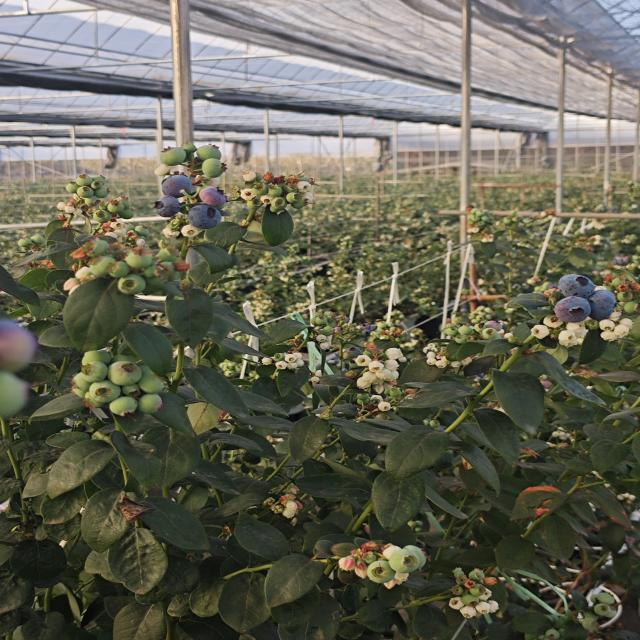ripe: (544, 294, 601, 328), (549, 270, 600, 299), (186, 199, 226, 232), (584, 288, 624, 318), (144, 197, 185, 219), (197, 183, 229, 210), (159, 176, 196, 198)
